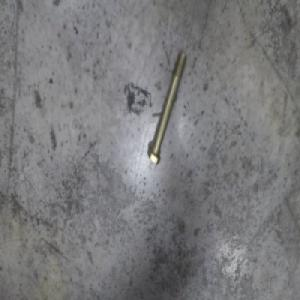Bolt: (147, 50, 190, 166)
